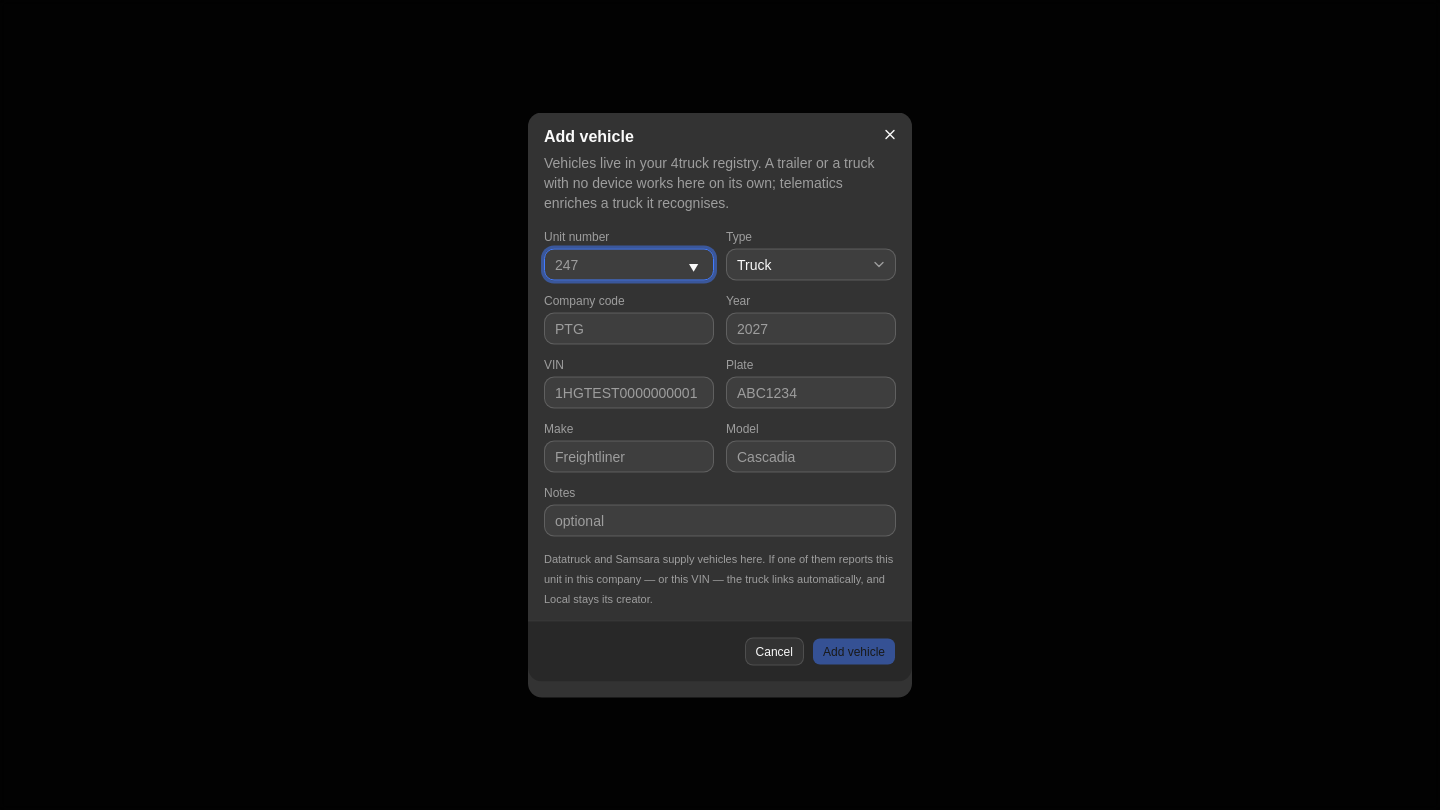
Scenario: Add vehicle — matching the typed identity › will not pick a truck when the unit number names three
Type "103" into the field with placeholder "247" at (629, 264), box [544, 248, 714, 280]
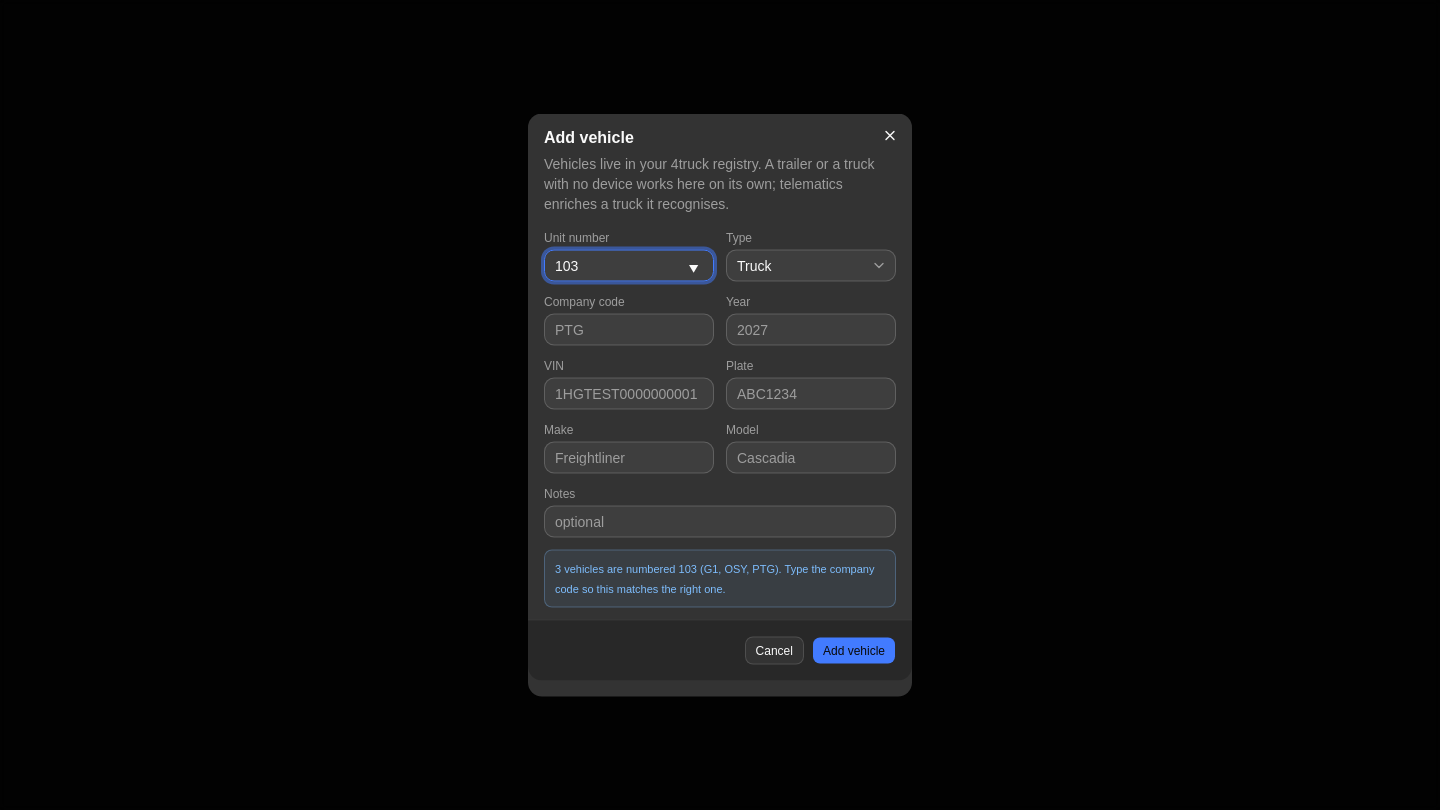
Check: the text "3 vehicles are numbered" is shown, box [544, 550, 896, 608]
Check: the text "Type the company code" is shown, box [555, 562, 874, 594]
